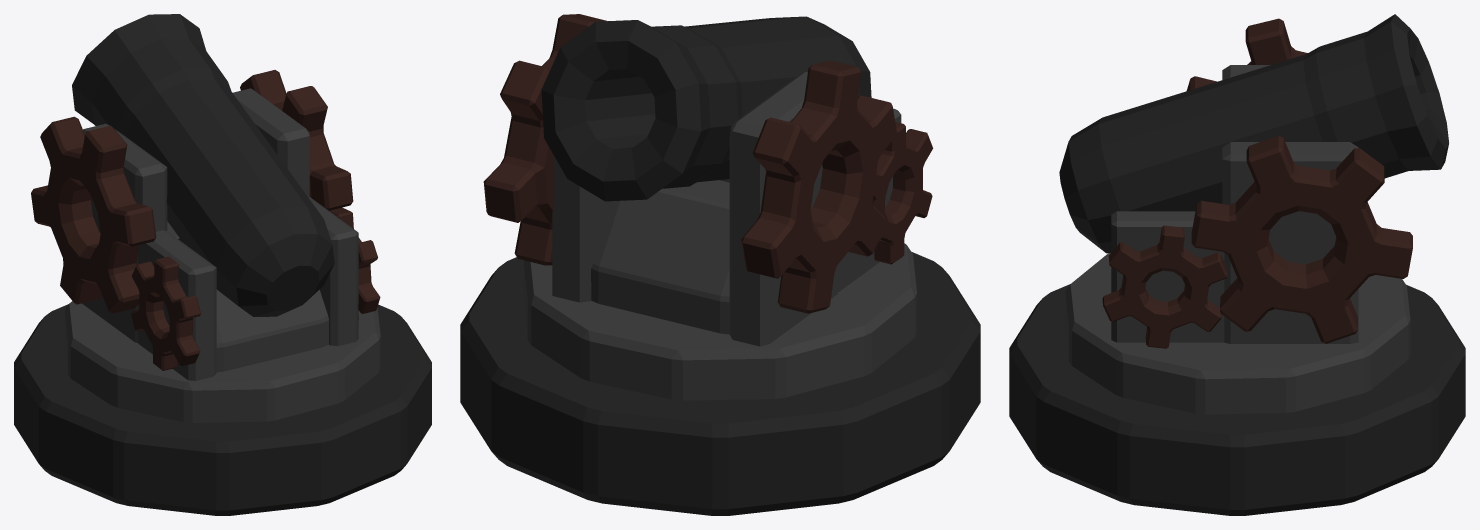
Rendered from Cannon_tower.fbx.
3 views of the same model, side by side, from view 1: azimuth 30°, elevation 25°; view 2: azimuth 150°, elevation 25°; view 3: azimuth 270°, elevation 25° (orthographic). The views are drawn at different scales.
Parts seen in each view (by area): view 1: Rotatable_parts, Solid_platform, big_wheel_l, small_wheel_l, big_wheel_r, small_wheel_r; view 2: Rotatable_parts, Solid_platform, big_wheel_l, big_wheel_r, small_wheel_l; view 3: Rotatable_parts, Solid_platform, big_wheel_r, small_wheel_r, big_wheel_l.
Boxes of the visible parts, box(x1,y1,x2,y2) form: Rotatable_parts: box(64, 14, 380, 422); Solid_platform: box(14, 304, 431, 515); big_wheel_l: box(31, 116, 156, 313); small_wheel_l: box(131, 256, 200, 370); big_wheel_r: box(240, 70, 353, 210); small_wheel_r: box(329, 207, 380, 320); Rotatable_parts: box(523, 16, 916, 400); Solid_platform: box(460, 252, 980, 515); big_wheel_l: box(741, 60, 897, 313); big_wheel_r: box(483, 14, 607, 265); small_wheel_l: box(872, 122, 933, 264); Rotatable_parts: box(1059, 14, 1448, 414); Solid_platform: box(1009, 284, 1465, 515); big_wheel_r: box(1191, 136, 1412, 343); small_wheel_r: box(1102, 225, 1227, 348); big_wheel_l: box(1186, 18, 1307, 90).
Size of the model in its own units: 320 by 310 by 320.
6 materials, 6 textured.
